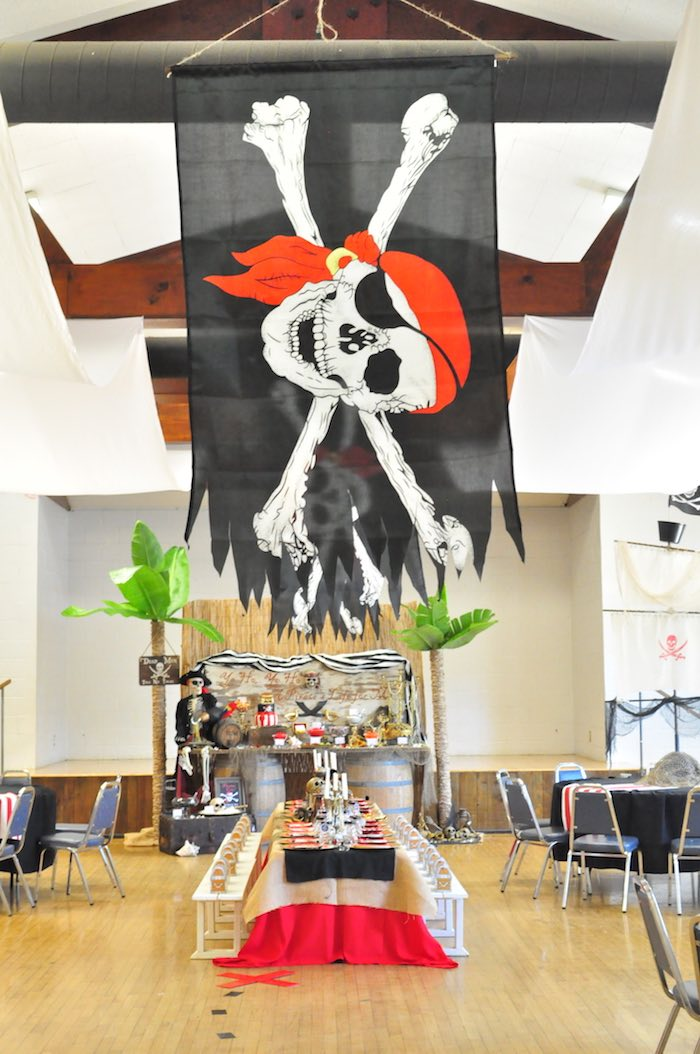Jolly Roger Flag: (177, 50, 520, 662)
